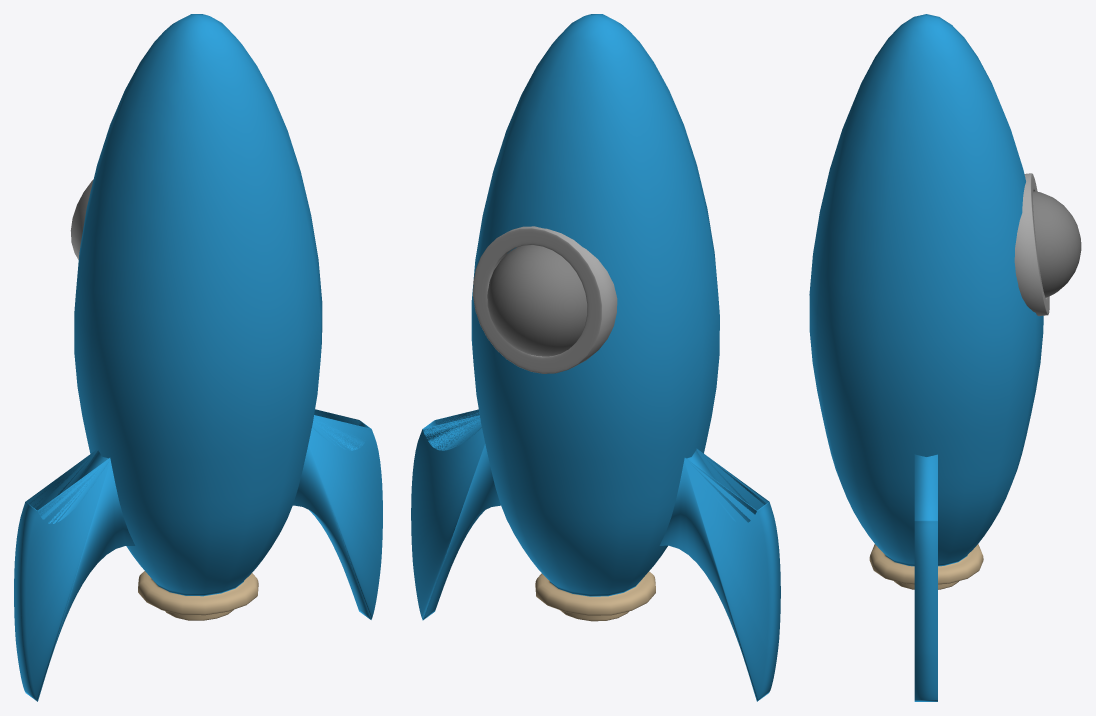
Rendered from Ship Sky Blue.fbx.
3 views of the same model, side by side, from view 1: azimuth 30°, elevation 25°; view 2: azimuth 150°, elevation 25°; view 3: azimuth 270°, elevation 25° (orthographic). The views are drawn at different scales.
Visible parts, largest first — view 1: Body, Fin2, Fin1, Window Cover; view 2: Body, Fin2, Fin1, Glass Window, Window Cover; view 3: Body, Fin1, Glass Window, Window Cover.
Part boxes in pixels (x1,y1,x2,y2): Body: (74, 14, 322, 620); Fin2: (14, 449, 135, 701); Fin1: (293, 409, 382, 619); Window Cover: (70, 179, 93, 259); Body: (471, 14, 719, 621); Fin2: (659, 448, 780, 701); Fin1: (411, 409, 500, 620); Glass Window: (487, 245, 587, 356); Window Cover: (473, 226, 617, 373); Body: (809, 14, 1043, 589); Fin1: (914, 454, 937, 701); Glass Window: (1033, 191, 1081, 297); Window Cover: (1014, 173, 1049, 316).
Bounding box in the file's own units: 339 × 581 × 235.
